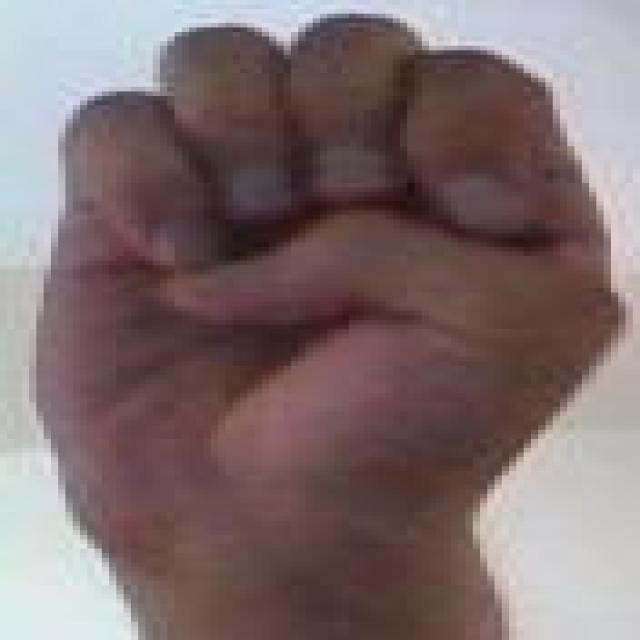E: (14, 9, 640, 548)
